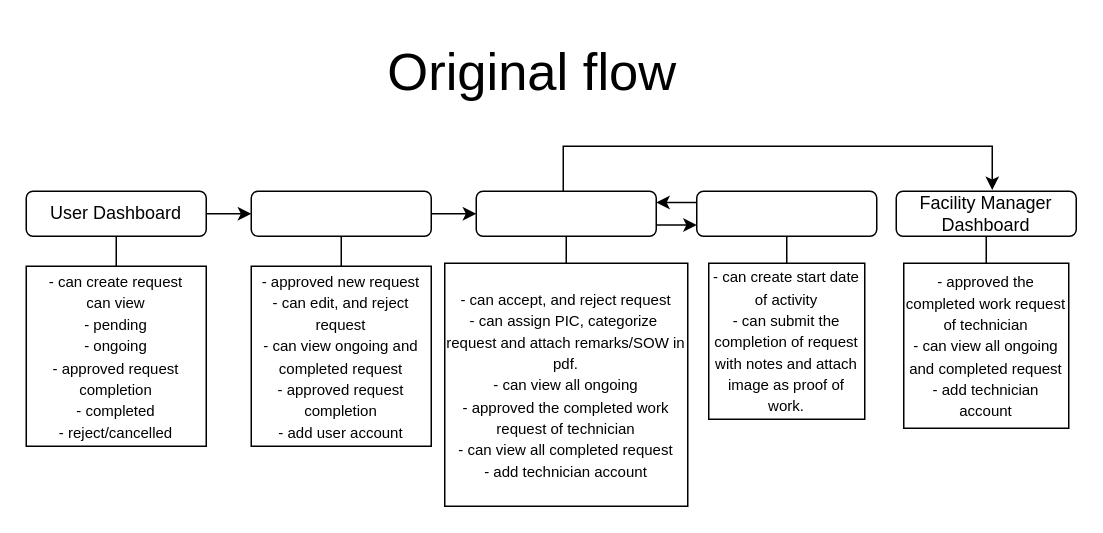
This 1103x533 diagram has some shape labels left out. Each missing label, with the box of its shape:
Dept. Manager Dashboard: (250, 190, 431, 236)
Facility supervisor Dashboard: (475, 190, 656, 236)
Technician Dashboard: (695, 190, 877, 236)
